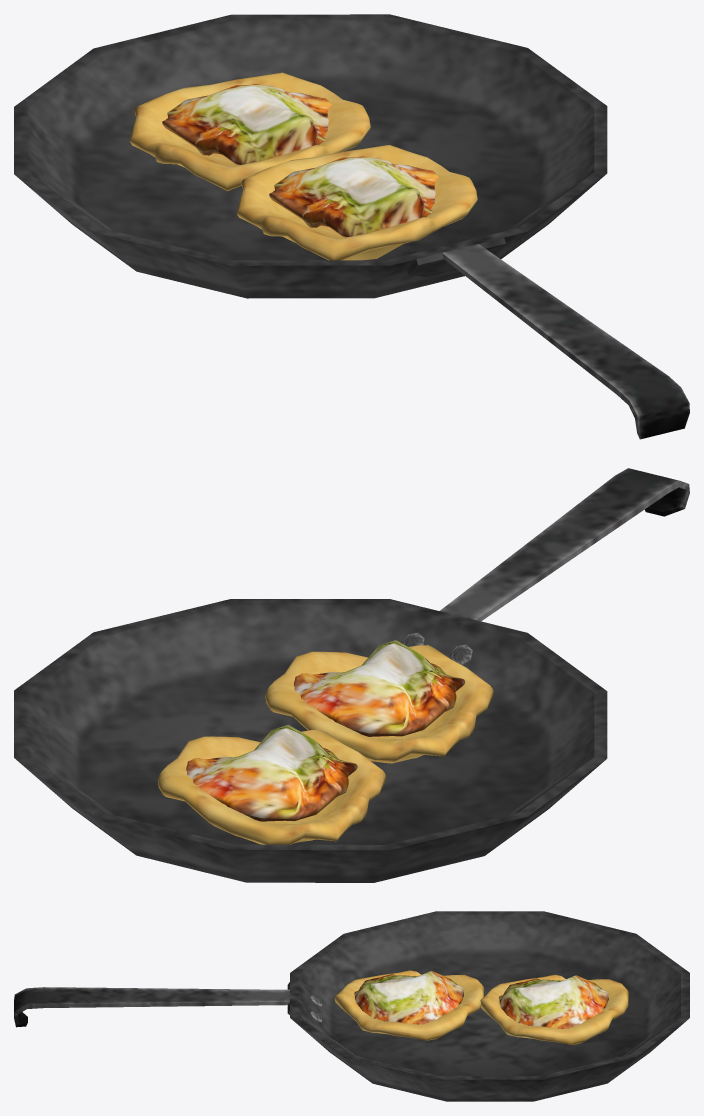
File: AL_SopesForged.fbx
3 renders of one model, top to bottom at view 1: azimuth 30°, elevation 25°; view 2: azimuth 150°, elevation 25°; view 3: azimuth 270°, elevation 25°, orthographic. The views are drawn at different scales.
Visible parts, largest first — view 1: Circle.001; view 2: Circle.001; view 3: Circle.001.
Boxes of the visible parts, box(x1,y1,x2,y2) form: Circle.001: box(14, 14, 689, 439); Circle.001: box(14, 468, 689, 882); Circle.001: box(14, 911, 689, 1101).
Size of the model in its own units: 0.7308 by 0.0612 by 0.4323.
